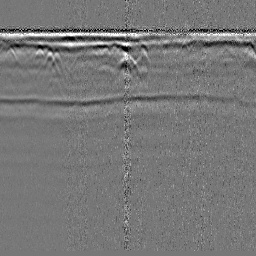cavity: (115, 54, 141, 75)
